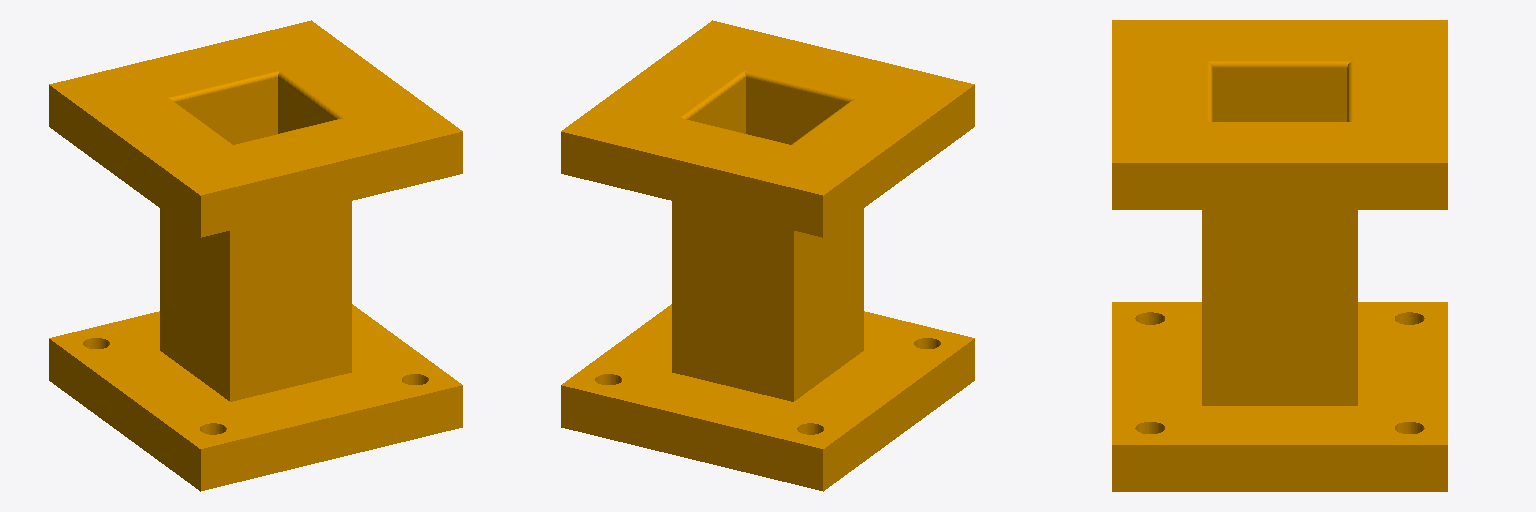
robot.urdf — 00071_socket:
<?xml version="1.0"?>
<robot name="00071_socket">
	<link name="00071_socket">
		<visual>
			<geometry>
				<mesh filename="../mesh/00071/asset_socket.obj"/>
			</geometry>
		</visual>
		<collision>
			<geometry>
				<mesh filename="../mesh/00071/asset_socket.obj"/>
			</geometry>
			<sdf resolution="256"/>
		</collision>
	</link>
</robot>

--- What the picture shows (computed from the rendered views, not written in the file) ---
3 views of the same robot in one strip: view 1: azimuth 30°, elevation 25°; view 2: azimuth 150°, elevation 25°; view 3: azimuth 270°, elevation 25° (orthographic).
Robot: 00071_socket — 1 links, 0 joints (none); root link 00071_socket; default pose: all joints at 0.
Links seen in each view (by area): view 1: 00071_socket; view 2: 00071_socket; view 3: 00071_socket.
Link boxes in pixels (box(x1,y1,x2,y2)): 00071_socket: box(49, 20, 462, 491); 00071_socket: box(561, 20, 974, 491); 00071_socket: box(1112, 20, 1447, 491).
Bounding box of the posed robot: 0.065 × 0.065 × 0.07 m (x, y, z).
1 mesh visuals loaded from 1 distinct referenced files (1 OBJ).
